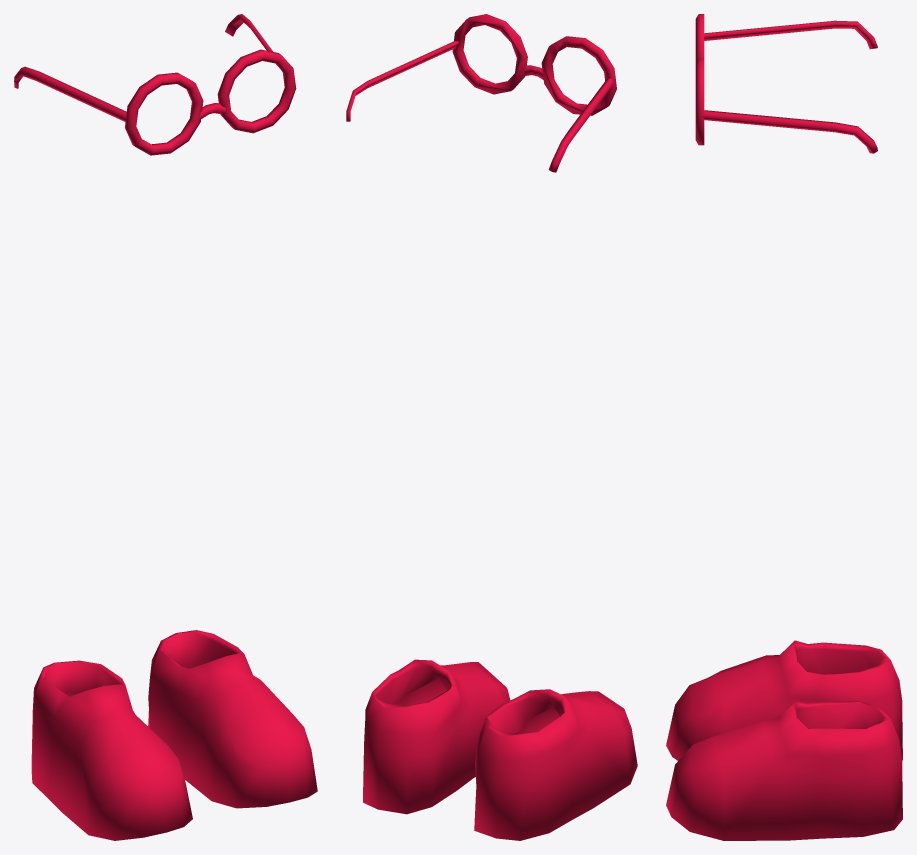
File: shoe_glasses_l.fbx
3 views of the same model, side by side, from view 1: azimuth 30°, elevation 25°; view 2: azimuth 150°, elevation 25°; view 3: azimuth 270°, elevation 25° (orthographic). The views are drawn at different scales.
Parts seen in each view (by area): view 1: shoe_l; view 2: shoe_l; view 3: shoe_l.
Boxes of the visible parts, x1,y1,x2,y2 form: shoe_l: [14, 14, 317, 840]; shoe_l: [346, 14, 637, 840]; shoe_l: [666, 14, 902, 840].
Size of the model in its own units: 50.71 by 163 by 46.58.
